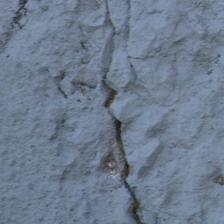Crack: (50, 41, 97, 180)
